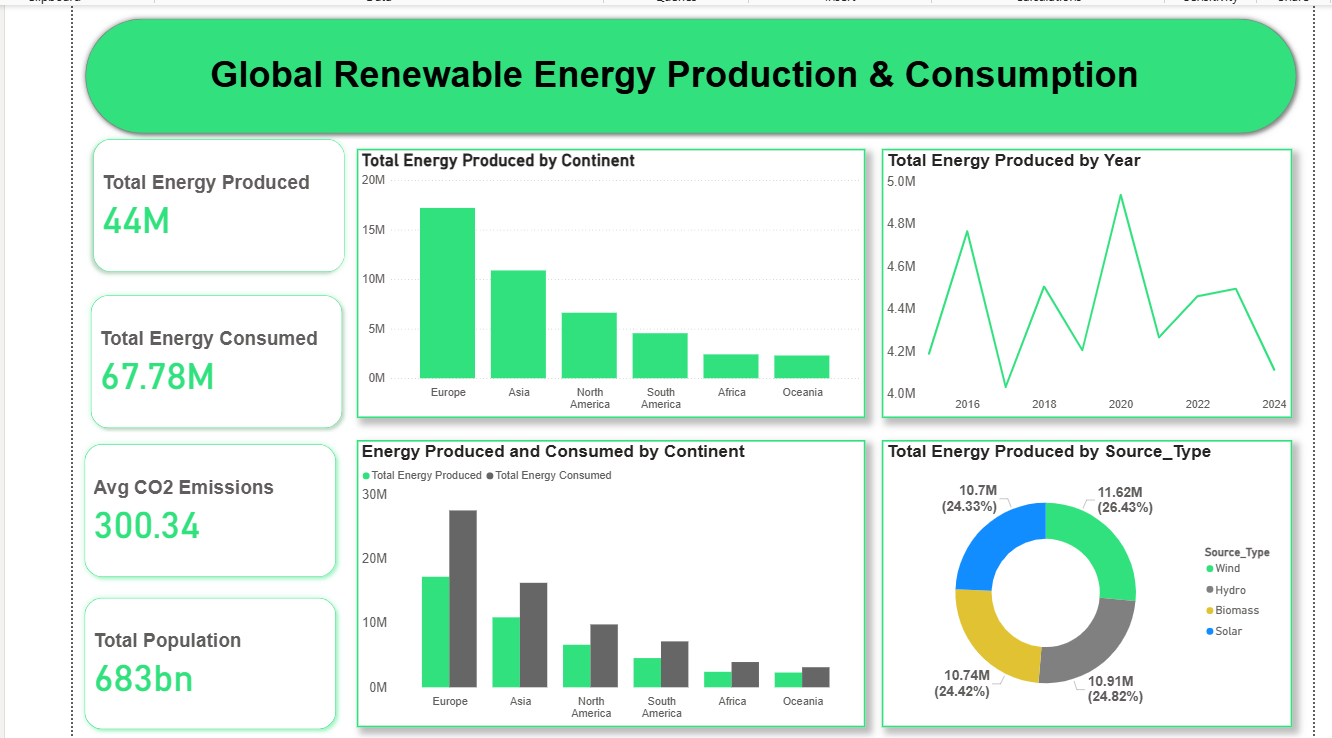

This screenshot's page, from the dashboard's own definition file:
{"tool":"powerbi","page":{"name":"Page 2","canvas":[1820,1080],"ordinal":1},"visuals":[{"type":"shape","title":"dzvxcnbmn","box":[9.3,11.2,1795,186.6],"z":0},{"type":"textbox","box":[195.9,65.3,1388.3,113.8],"z":1000},{"type":"cardVisual","fields":{"Data":["global.Total Energy Produced"]},"box":[13.1,179.1,403,229.5],"z":2000},{"type":"cardVisual","fields":{"Data":["global.Total Energy Consumed"]},"box":[9.3,408.6,403,229.5],"z":2001},{"type":"cardVisual","fields":{"Data":["global.Avg CO2 Emissions"]},"box":[0,627,403,229.5],"z":2002},{"type":"clusteredColumnChart","fields":{"Category":["global.Continent"],"Y":["global.Total Energy Produced"]},"box":[416.1,210.9,746.4,395.6],"z":2003},{"type":"lineChart","fields":{"Category":["global.Year"],"Y":["global.Total Energy Produced"]},"box":[1186.7,210.9,602.7,395.6],"z":2005},{"type":"clusteredColumnChart","title":"Energy Produced and Consumed by Continent","fields":{"Category":["global.Continent"],"Y":["global.Total Energy Produced","global.Total Energy Consumed"]},"box":[416.1,638.2,746.4,421.7],"z":2006},{"type":"donutChart","fields":{"Category":["global.Source_Type"],"Y":["global.Total Energy Produced"]},"box":[1186.7,638.2,602.7,421.7],"z":2007},{"type":"cardVisual","fields":{"Data":["global.Total Population"]},"box":[0,852.7,403,227.6],"z":2008}]}

Visuals, with their boxes in screenshot pixels (x1, y1, x2, y2):
"dzvxcnbmn" shape: [x1=86, y1=21, x2=1297, y2=147]
textbox: [x1=212, y1=58, x2=1149, y2=135]
cardVisual - global.Total Energy Produced: [x1=89, y1=135, x2=361, y2=290]
cardVisual - global.Total Energy Consumed: [x1=86, y1=290, x2=358, y2=444]
cardVisual - global.Avg CO2 Emissions: [x1=80, y1=437, x2=352, y2=592]
clusteredColumnChart - global.Continent x global.Total Energy Produced: [x1=361, y1=156, x2=864, y2=423]
lineChart - global.Year x global.Total Energy Produced: [x1=880, y1=156, x2=1287, y2=423]
"Energy Produced and Consumed by Continent" clusteredColumnChart: [x1=361, y1=444, x2=864, y2=729]
donutChart - global.Source_Type x global.Total Energy Produced: [x1=880, y1=444, x2=1287, y2=729]
cardVisual - global.Total Population: [x1=80, y1=589, x2=352, y2=737]
